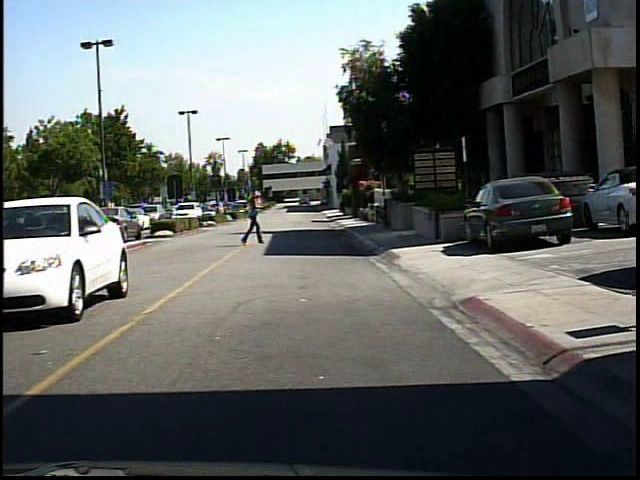person: (234, 187, 266, 249)
